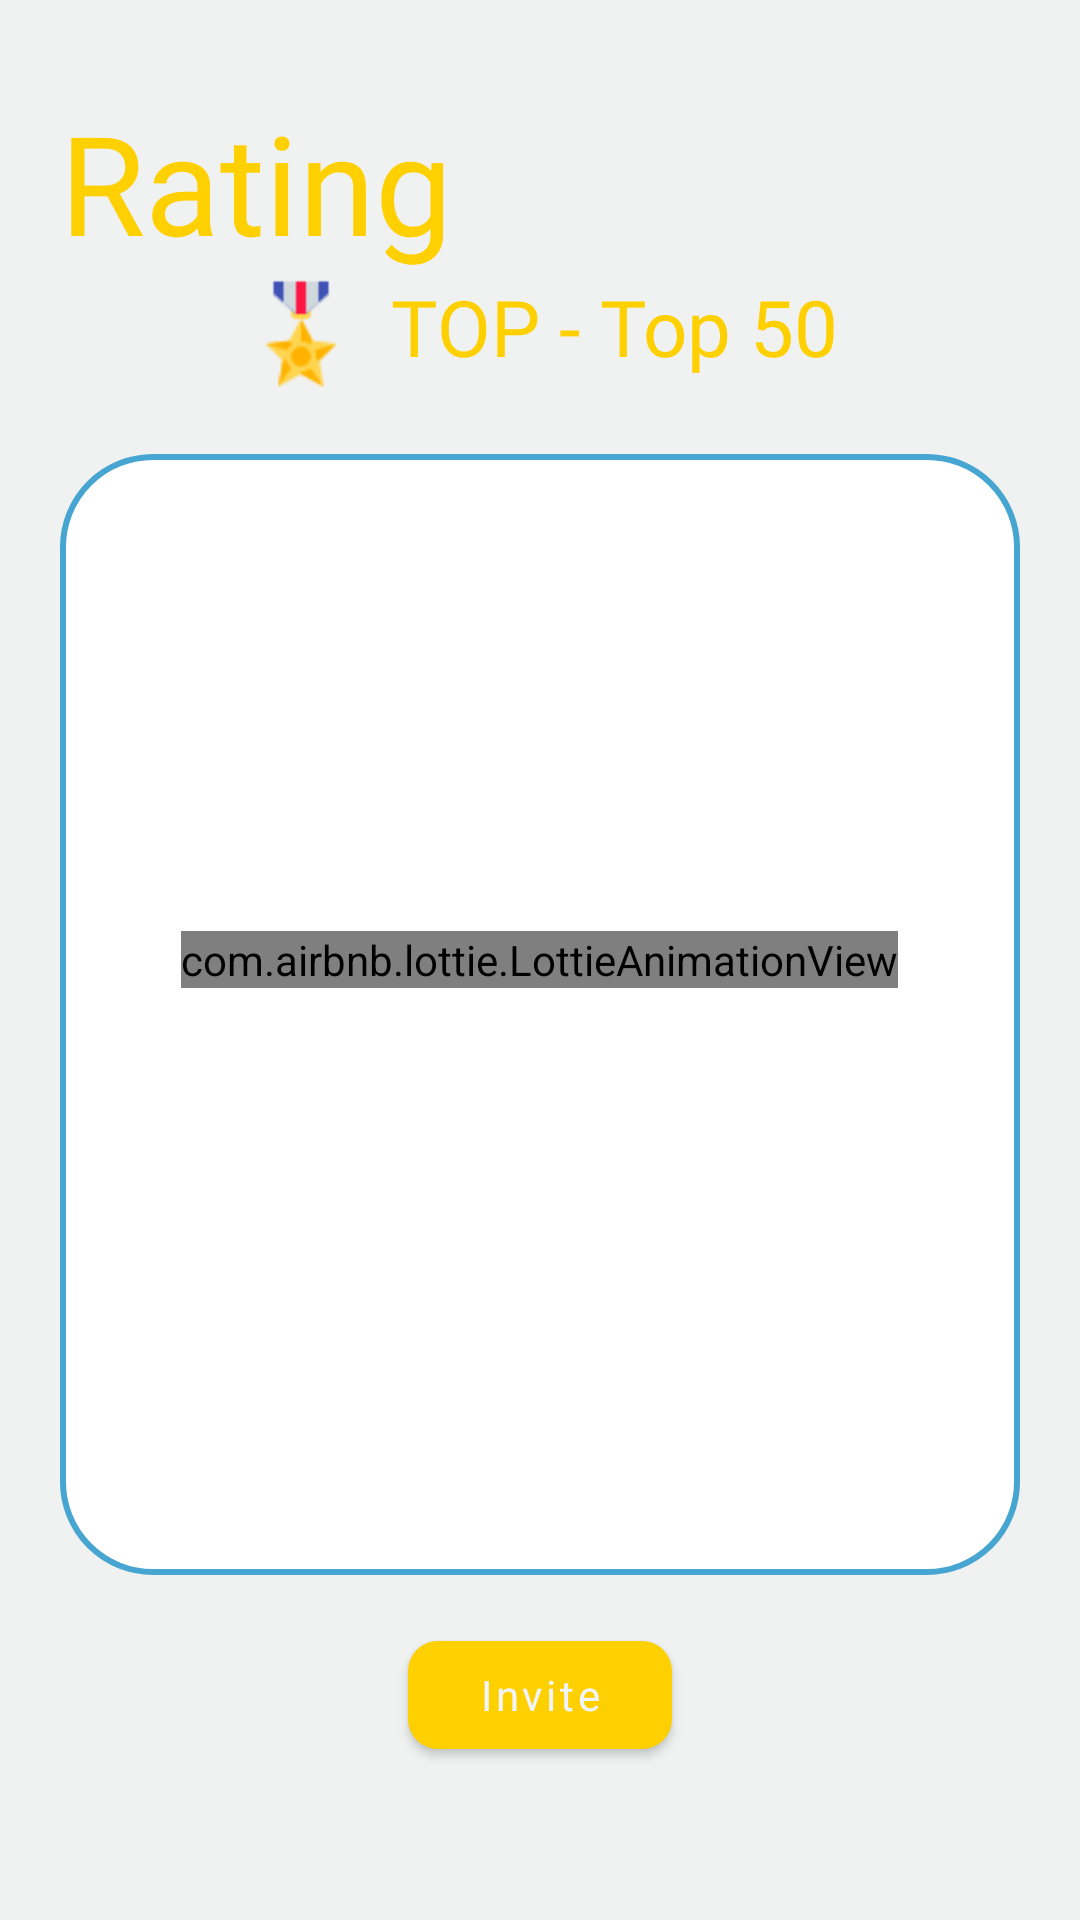

Icon click points for this 1080 × 1920 phone screenshot, format (x=x, y=y):
medal: (x=301, y=334)
